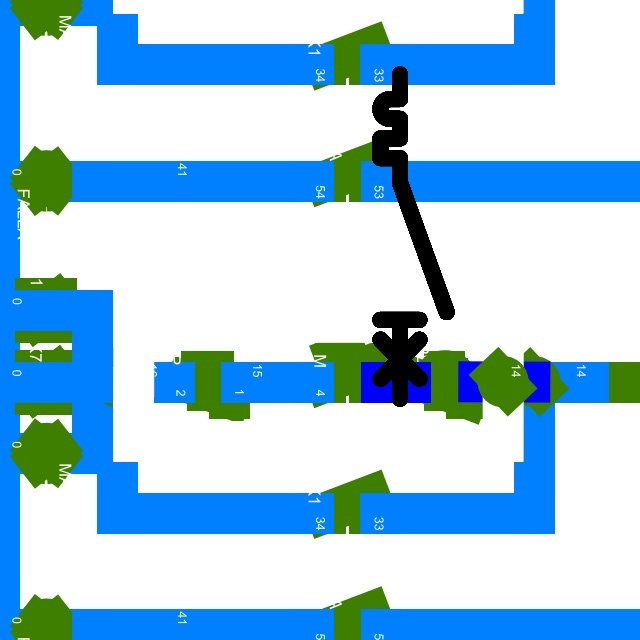interruptor_termomagnetico: (372, 66, 455, 407)
